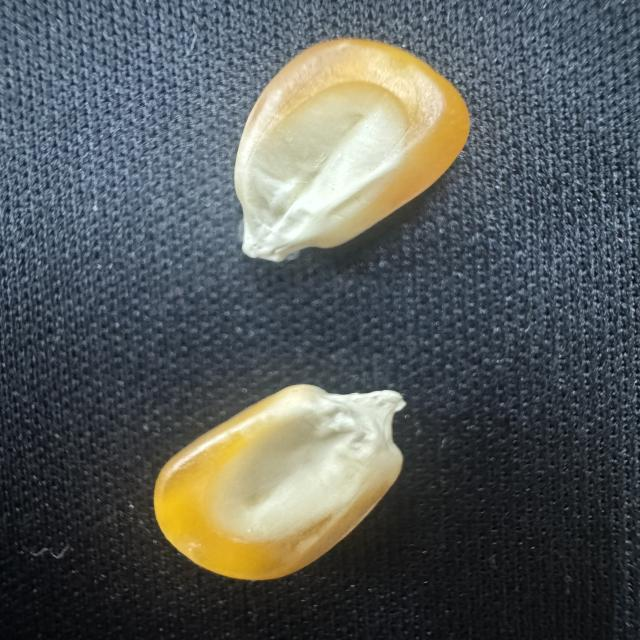Good-Seed: (230, 32, 476, 266), (145, 379, 408, 583)
